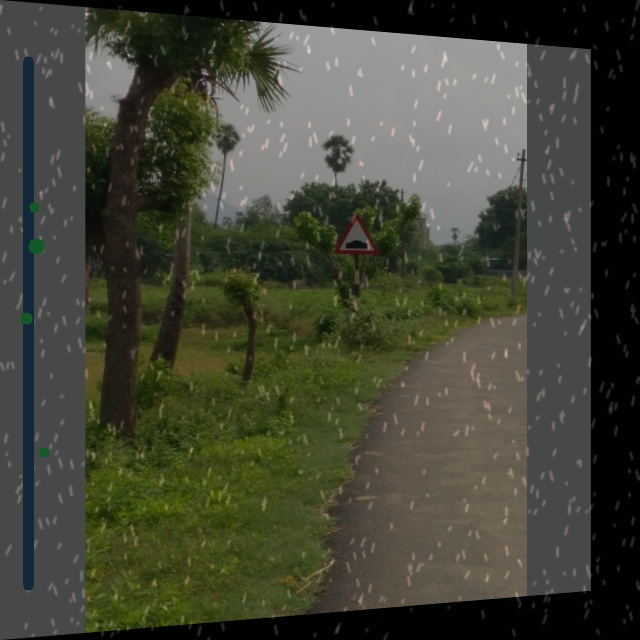Hump_or_Rough_Road: (330, 209, 381, 259)
